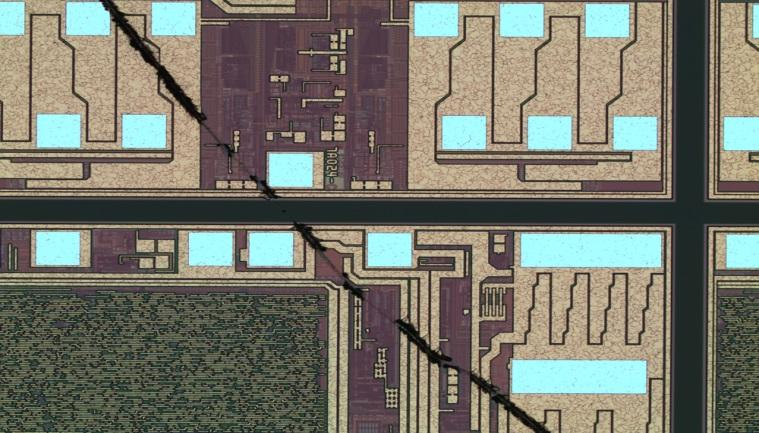SCRATCH: (102, 1, 555, 433)
